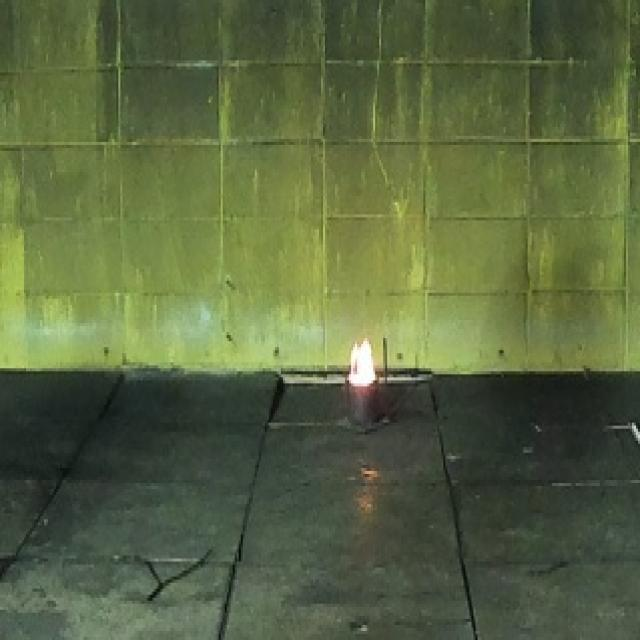Fire: (349, 337, 375, 387)
